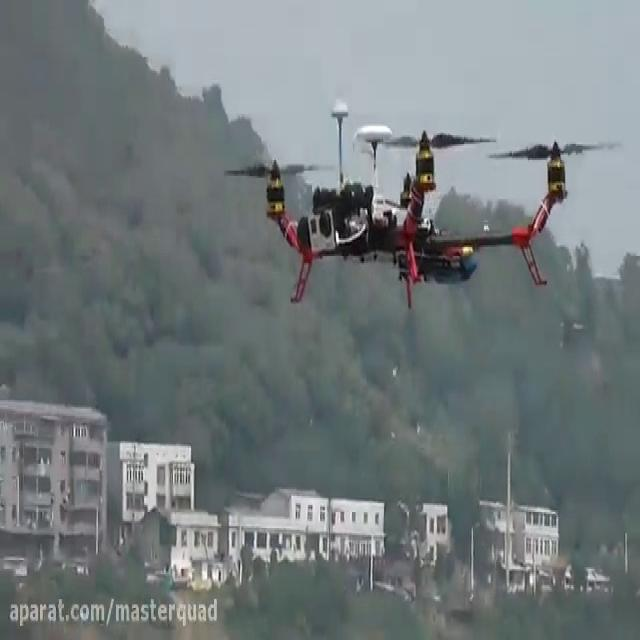drone: (214, 93, 628, 314)
